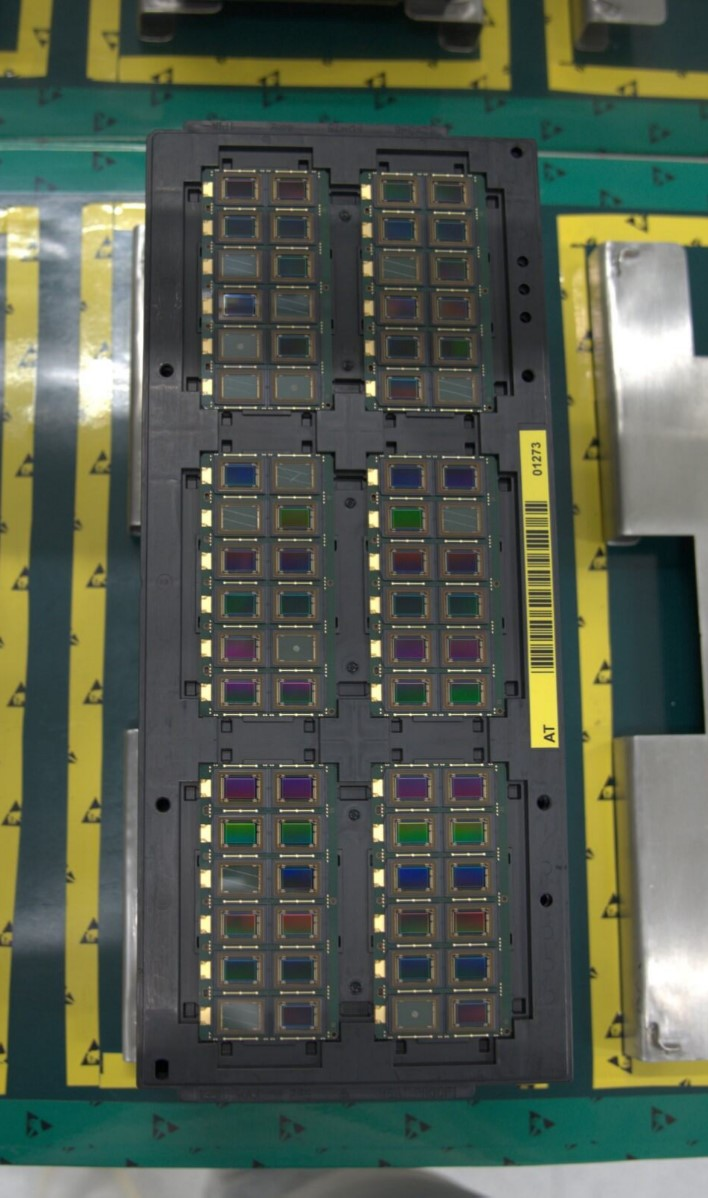Bad_mark_from_BMS_mold: (214, 857, 267, 897), (214, 367, 266, 406), (215, 498, 265, 538), (214, 997, 265, 1036), (435, 500, 484, 539), (429, 371, 481, 406), (214, 247, 263, 283), (270, 457, 319, 493), (269, 289, 319, 324), (376, 251, 425, 286)
Bad_mark_from_Maker: (389, 994, 440, 1035), (269, 630, 322, 668), (218, 327, 263, 363), (271, 369, 317, 404)
